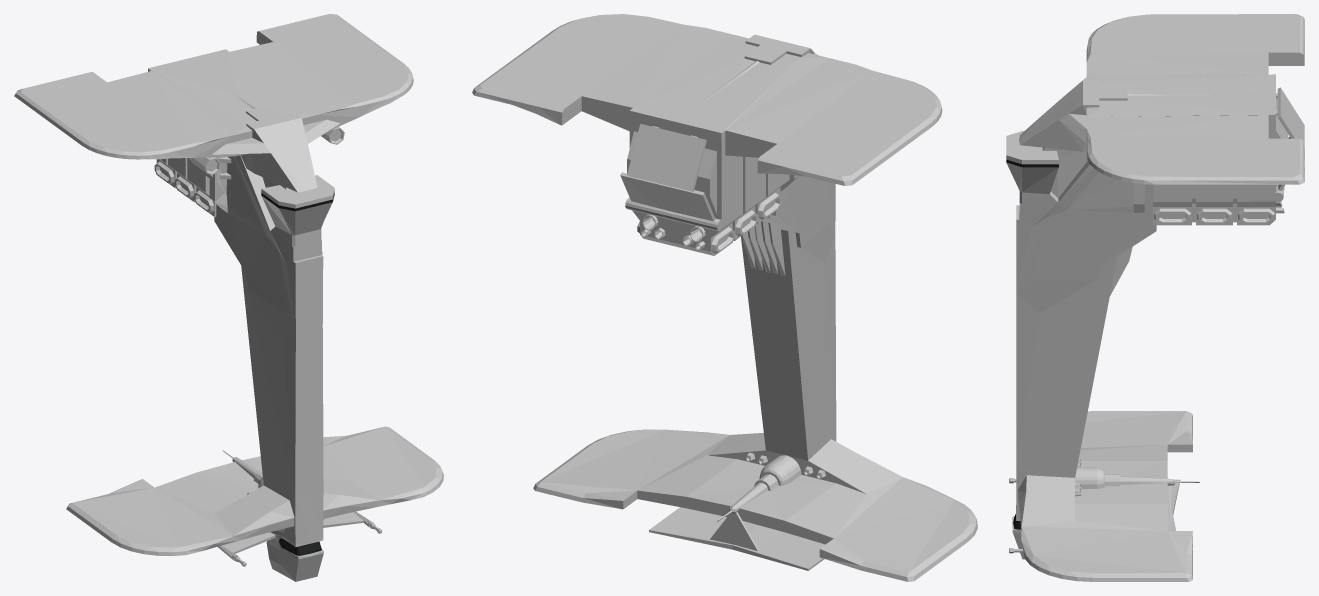
File: merchant_cruiser_light_l1.fbx
The picture shows the model from 3 angles, left to right: view 1: azimuth 30°, elevation 25°; view 2: azimuth 150°, elevation 25°; view 3: azimuth 270°, elevation 25°; orthographic projection. The views are drawn at different scales.
Visible parts, largest first — view 1: mesh_node; view 2: mesh_node; view 3: mesh_node.
Part boxes in pixels (<box>): mesh_node: <box>14,14,443,581</box>; mesh_node: <box>472,14,977,581</box>; mesh_node: <box>1006,14,1304,581</box>.
Size of the model in its own units: 35.08 by 45.01 by 26.42.
